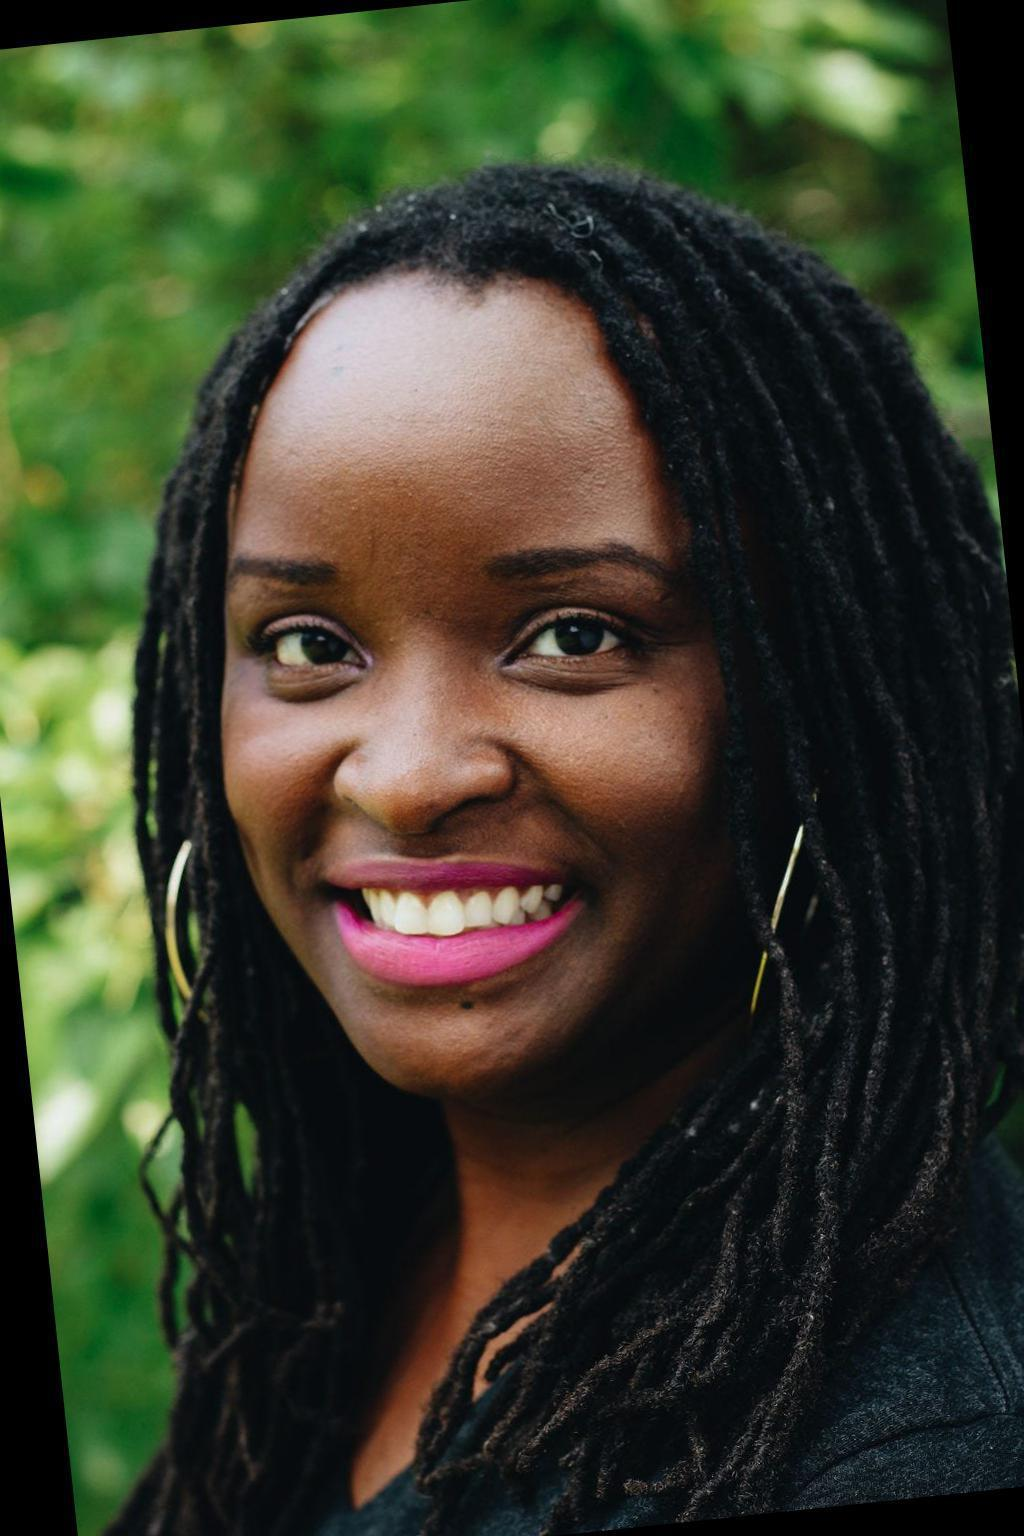Sober: (205, 363, 705, 1013)
